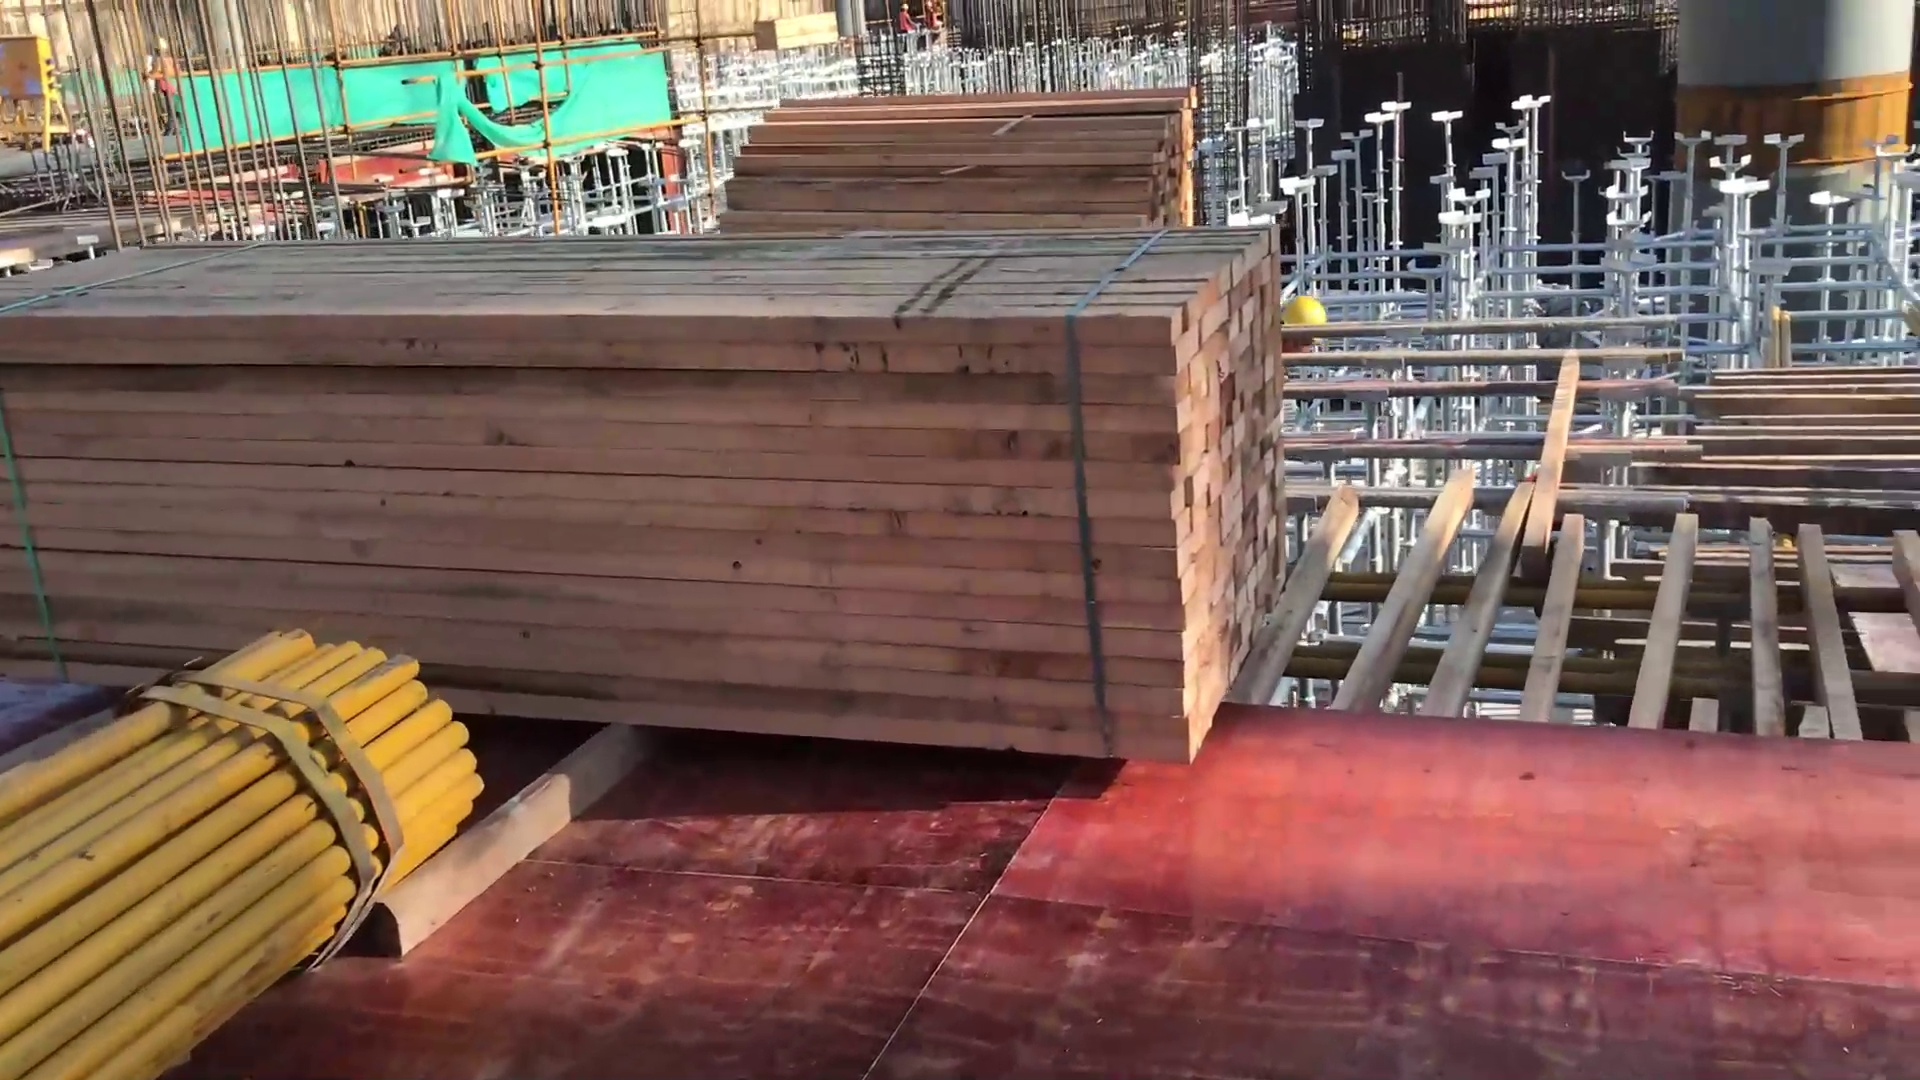ebox: (1, 30, 84, 160)
helmet: (1284, 287, 1346, 342)
vest: (138, 61, 174, 94)
wood: (1, 88, 1331, 694)
